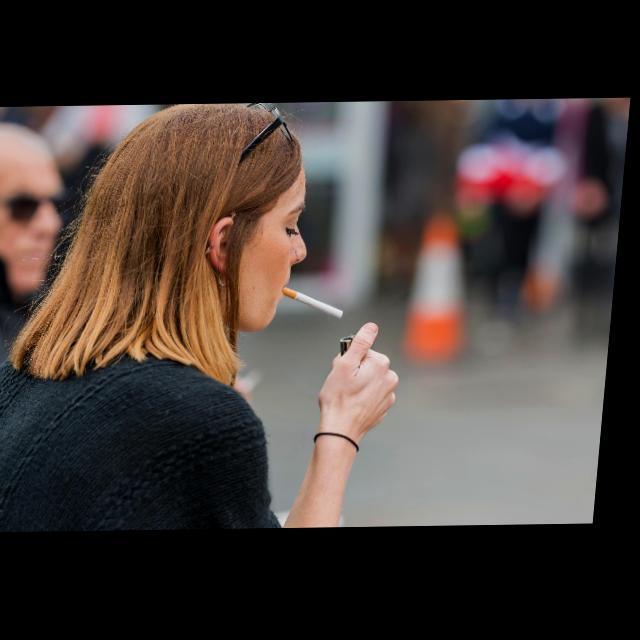cigarette: (284, 288, 351, 320)
